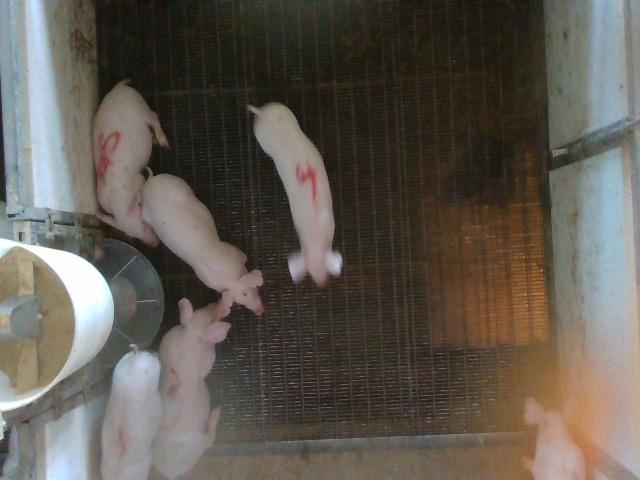pig-1: (101, 345, 162, 479)
pig-3: (152, 299, 230, 478)
pig-4: (248, 102, 342, 288)
pig-5: (94, 80, 169, 246)
